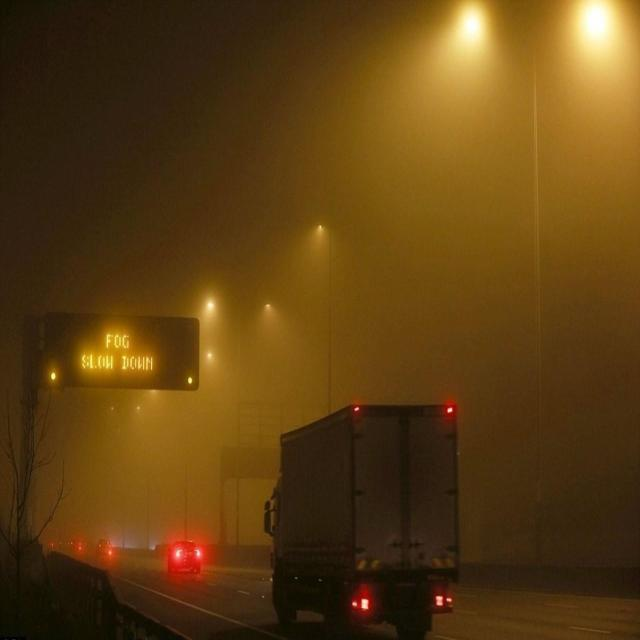Car: (168, 538, 202, 576), (96, 538, 114, 562)
Truck: (260, 396, 462, 640)
